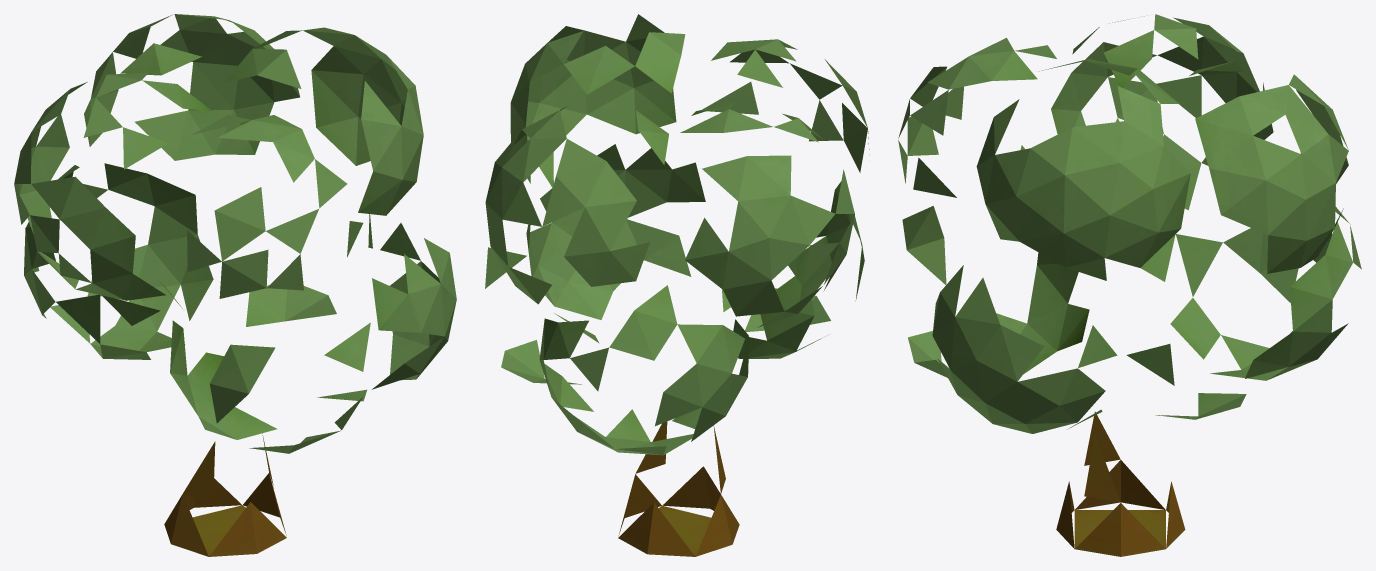
The model's file is shrub_LOD2.glb.
3 views of the same model, side by side, from view 1: azimuth 30°, elevation 25°; view 2: azimuth 150°, elevation 25°; view 3: azimuth 270°, elevation 25° (orthographic). The views are drawn at different scales.
Visible parts, largest first — view 1: shrub_LOD2; view 2: shrub_LOD2; view 3: shrub_LOD2.
Boxes of the visible parts, x1,y1,x2,y2 form: shrub_LOD2: (14, 14, 456, 556); shrub_LOD2: (485, 14, 869, 556); shrub_LOD2: (898, 14, 1361, 556).
Size of the model in its own units: 0.7691 by 0.9902 by 0.8435.
1 material, 1 textured.
